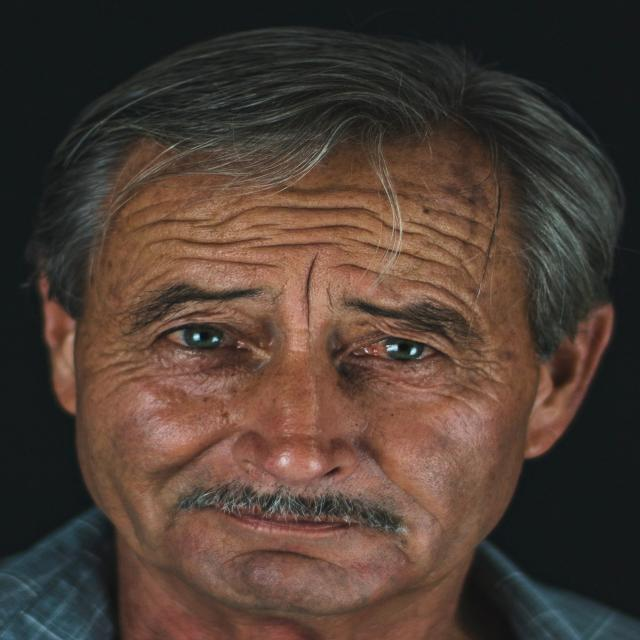Wrinkles: (198, 205, 378, 227), (410, 221, 490, 260), (344, 238, 448, 267), (128, 220, 207, 234), (177, 257, 277, 267), (372, 217, 425, 235), (307, 253, 318, 336), (122, 200, 169, 218), (442, 286, 471, 310), (244, 242, 350, 248), (176, 238, 271, 244), (288, 225, 372, 231), (331, 264, 377, 272), (429, 208, 464, 217), (460, 263, 473, 278), (246, 224, 280, 229), (475, 221, 491, 230), (403, 278, 430, 283), (444, 249, 457, 257), (327, 289, 331, 305), (464, 217, 475, 221), (431, 284, 440, 288), (457, 257, 461, 260)
